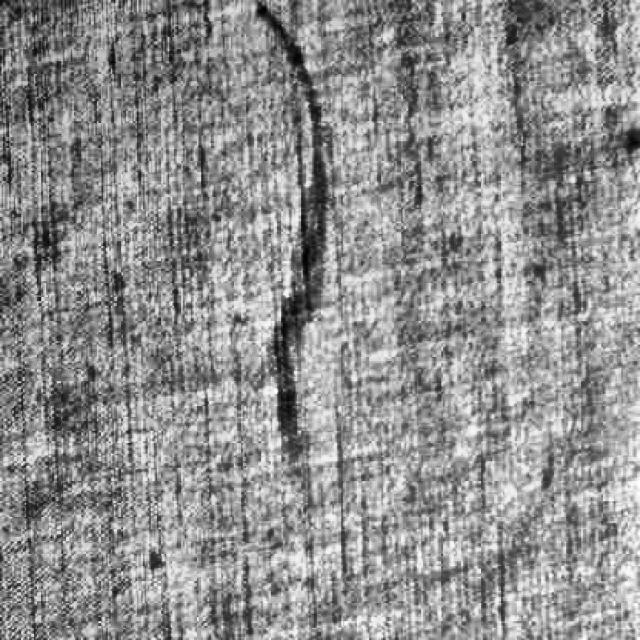oil_spot: (234, 0, 360, 471)
